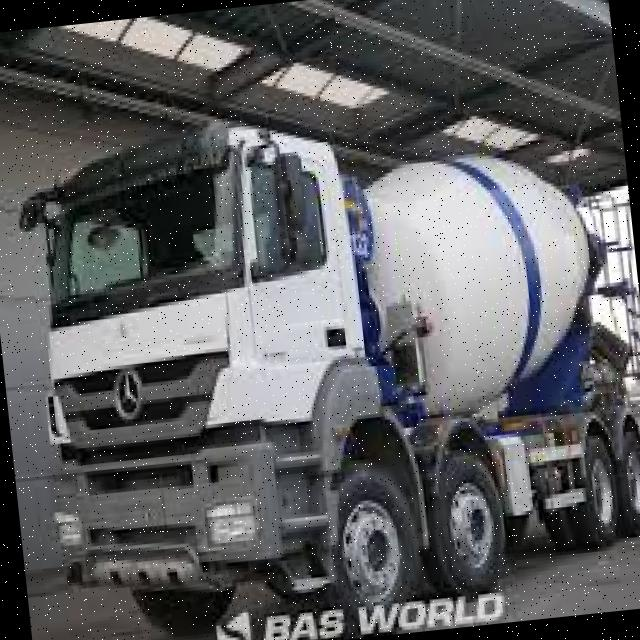Mixer Truck: (9, 72, 640, 640)
